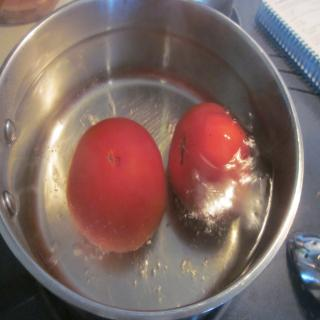tomato: (59, 112, 172, 260), (170, 102, 253, 222)
